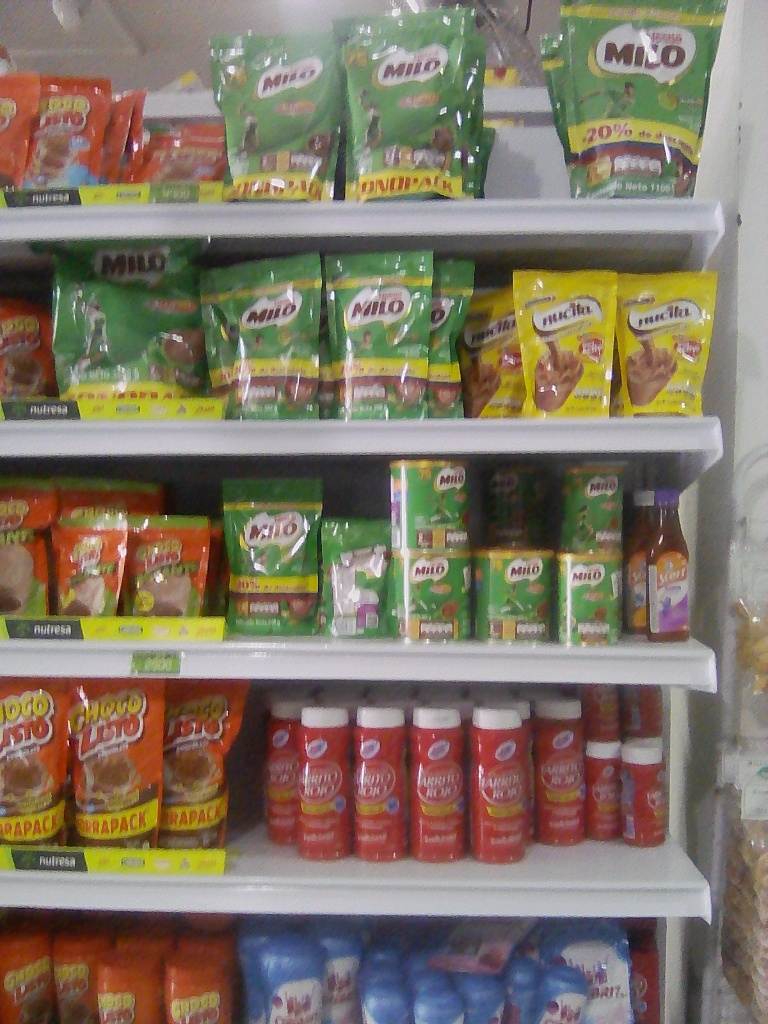COL0170102DYP10000: (126, 516, 210, 632)
COL0170102DYP25000: (2, 470, 54, 624)
COL0170103DYP44000: (59, 677, 164, 867)
COL0170203DYP10000: (325, 519, 389, 639)
COL0170203DYP25000: (197, 254, 327, 419)
COL0170203DYP50000: (42, 238, 208, 411)
COL0170203LAT20000: (559, 461, 623, 554)
COL0170203LAT40000: (468, 545, 557, 648)
